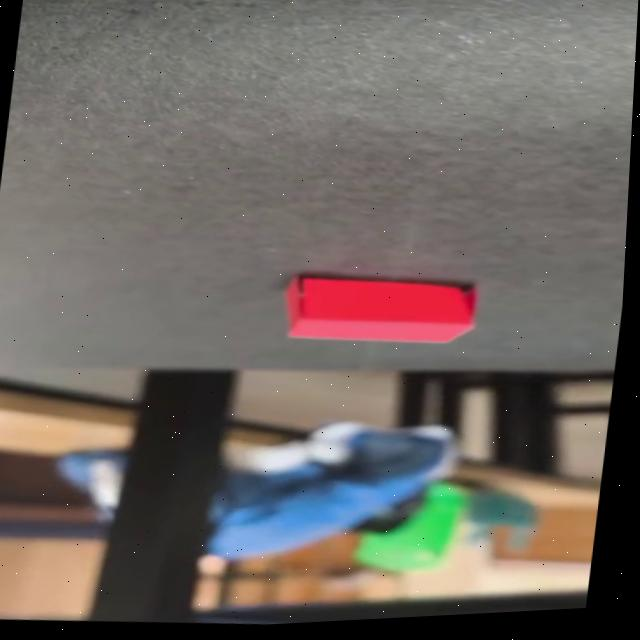red block: (275, 264, 481, 354)
